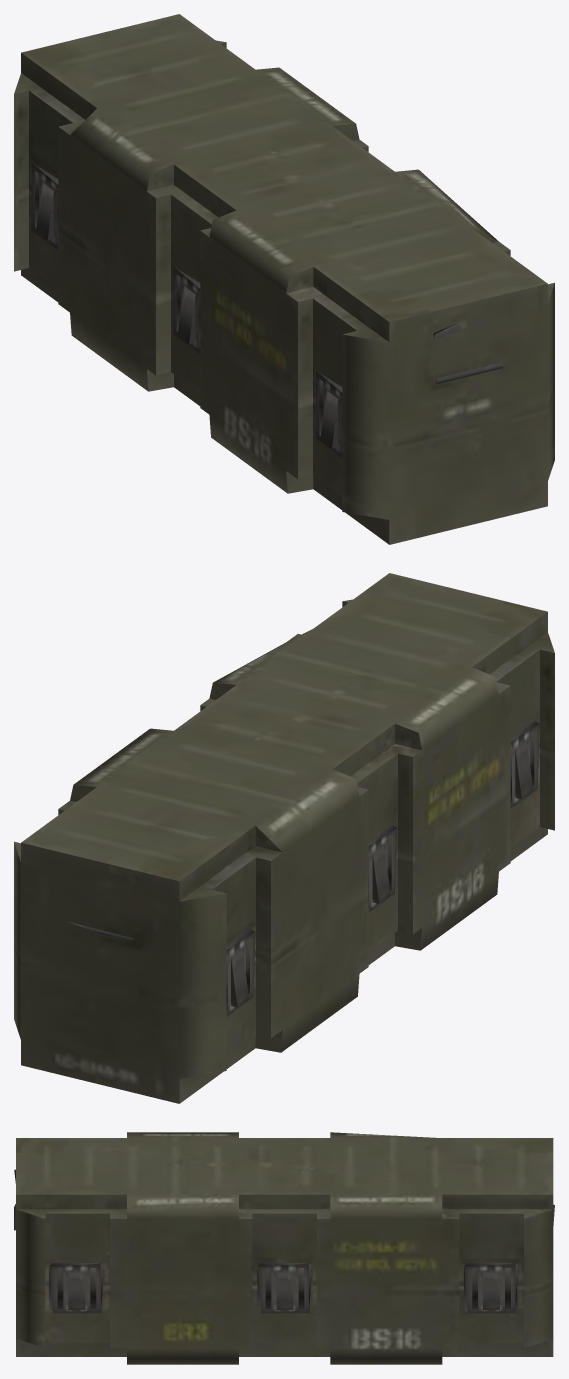
Rendered from airdrop-crate.lod1.glb.
3 views of the same model, one above another, from view 1: azimuth 30°, elevation 25°; view 2: azimuth 150°, elevation 25°; view 3: azimuth 270°, elevation 25° (orthographic). The views are drawn at different scales.
Parts seen in each view (by area): view 1: Object_3; view 2: Object_3; view 3: Object_3.
Part boxes in pixels (<box>): Object_3: <box>14,14,554,544</box>; Object_3: <box>14,573,554,1103</box>; Object_3: <box>14,1132,554,1364</box>.
Size of the model in its own units: 0.6614 by 0.6614 by 2.
Materials: 1 (1 with a texture image).
